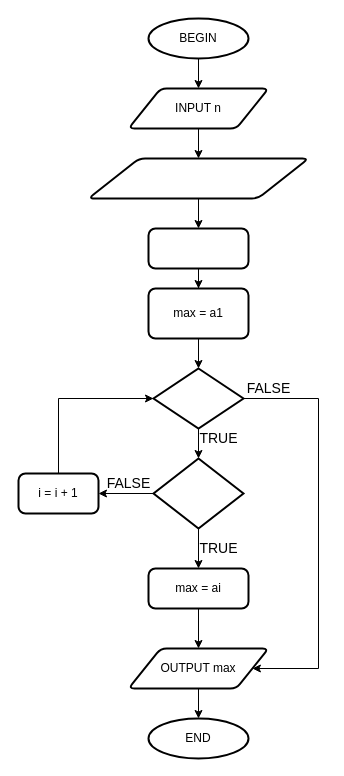
Some shapes in this 344 by 776 pixel diagram are drawn without their labels. Here are the shapes that lost their labels. From the top down, the centre of each, then its label:
At point 198,178: "INPUT a1, a2, a3,...ai..., an".
At point 198,248: "i = 2".
At point 198,398: "i <= n".
At point 198,493: "ai > max".
